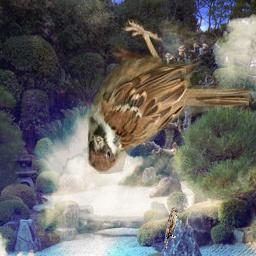Sparrow: (85, 20, 249, 175), (164, 207, 178, 250)
